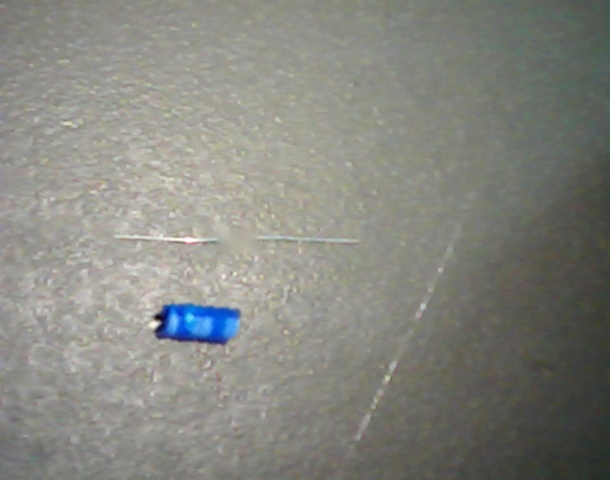capacitor: (148, 303, 241, 346)
